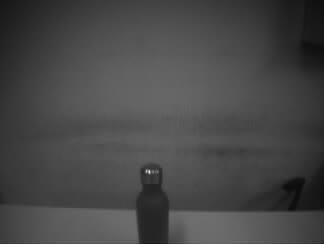Bottle: (134, 162, 171, 244)
